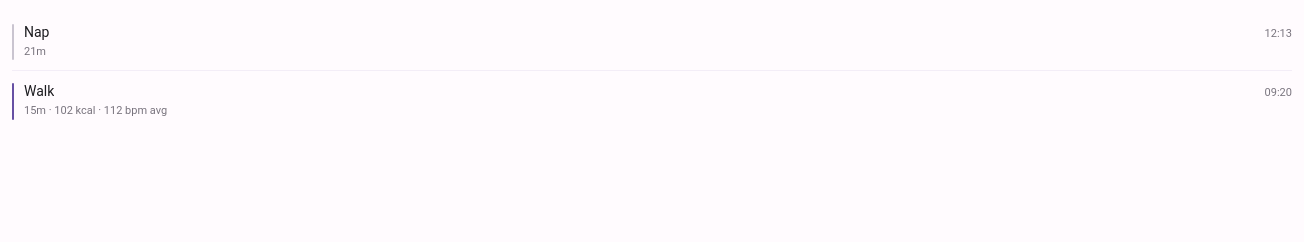
Test case: ActivityFeed › offers a way to the full session screen from inside the drop-down
Expected: the text "full detail" is not shown
Click the text "Walk". click: (39, 91)
box: [24,81,54,101]
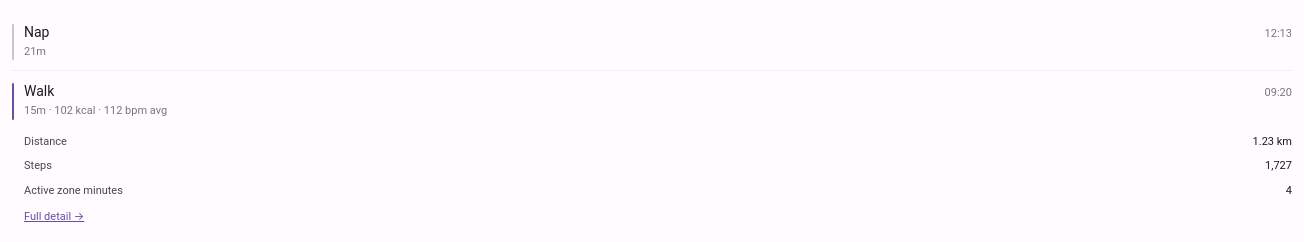
Expected: the button "Full detail →" is shown, [24,209,84,226]
